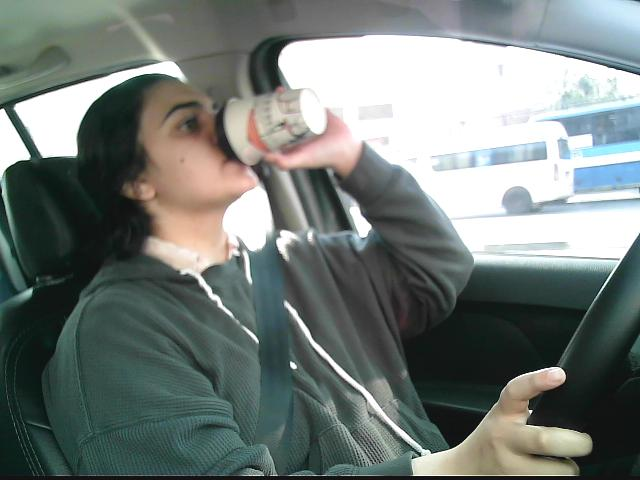Drinking: (216, 85, 330, 168)
